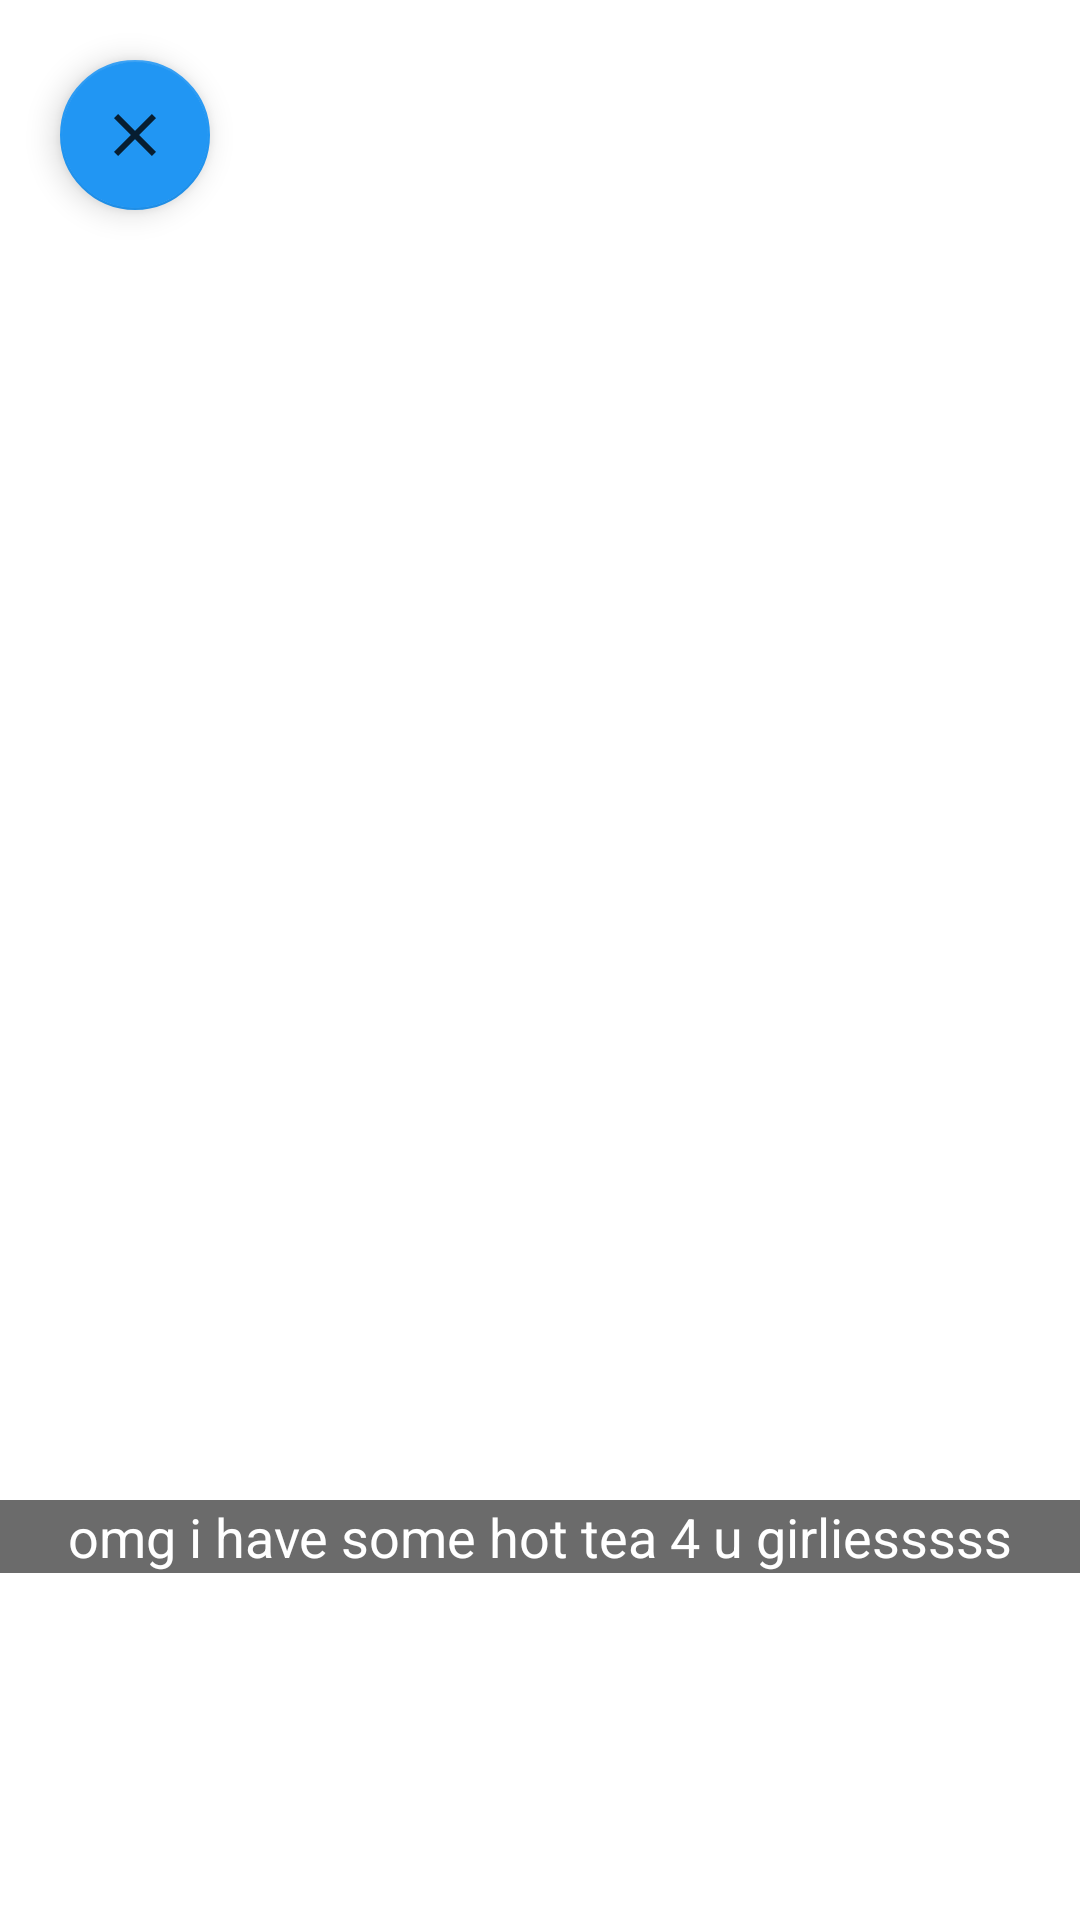

Named icons in this screenshot (1080w x 1920h) and their bounding boxes, (x1, y1, x2, y2):
discard photo: (60, 60, 210, 210)
